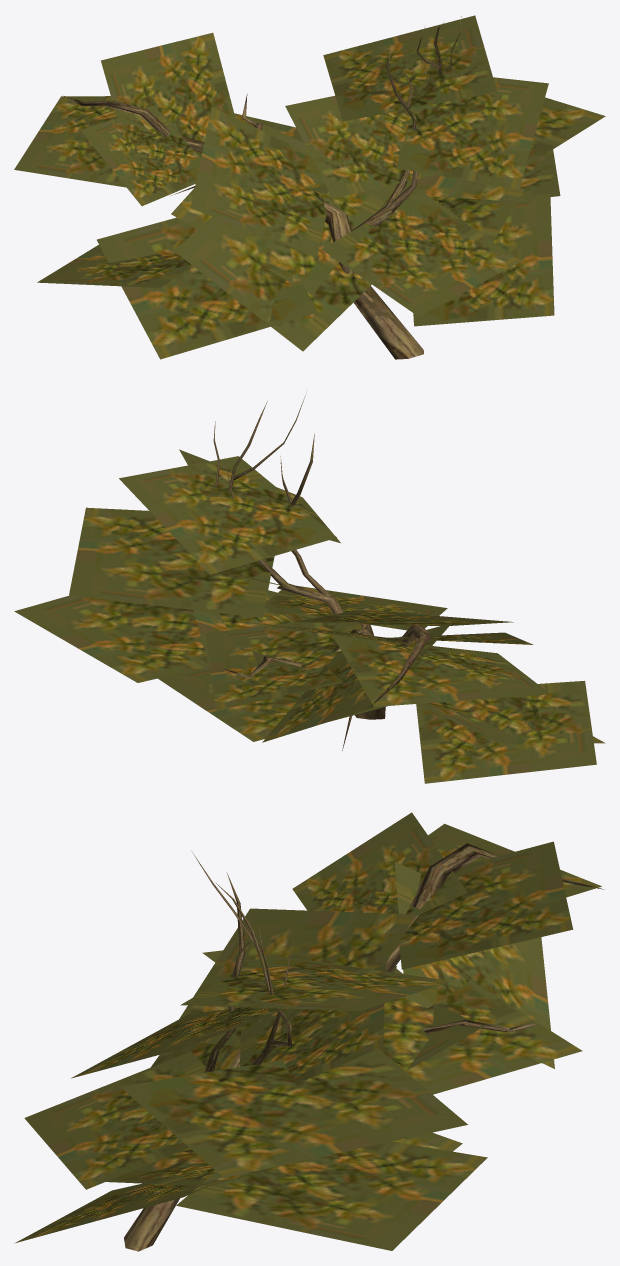
Rendered from S_Tree_Yellow057.FBX.
The picture shows the model from 3 angles, top to bottom: view 1: azimuth 30°, elevation 25°; view 2: azimuth 150°, elevation 25°; view 3: azimuth 270°, elevation 25°; orthographic projection. The views are drawn at different scales.
Parts seen in each view (by area): view 1: S_Tree_Yellow057; view 2: S_Tree_Yellow057; view 3: S_Tree_Yellow057.
Boxes of the visible parts, box(x1,y1,x2,y2) form: S_Tree_Yellow057: box(14, 15, 605, 359); S_Tree_Yellow057: box(14, 393, 605, 783); S_Tree_Yellow057: box(14, 812, 603, 1251).
Size of the model in its own units: 460 by 331 by 258.
